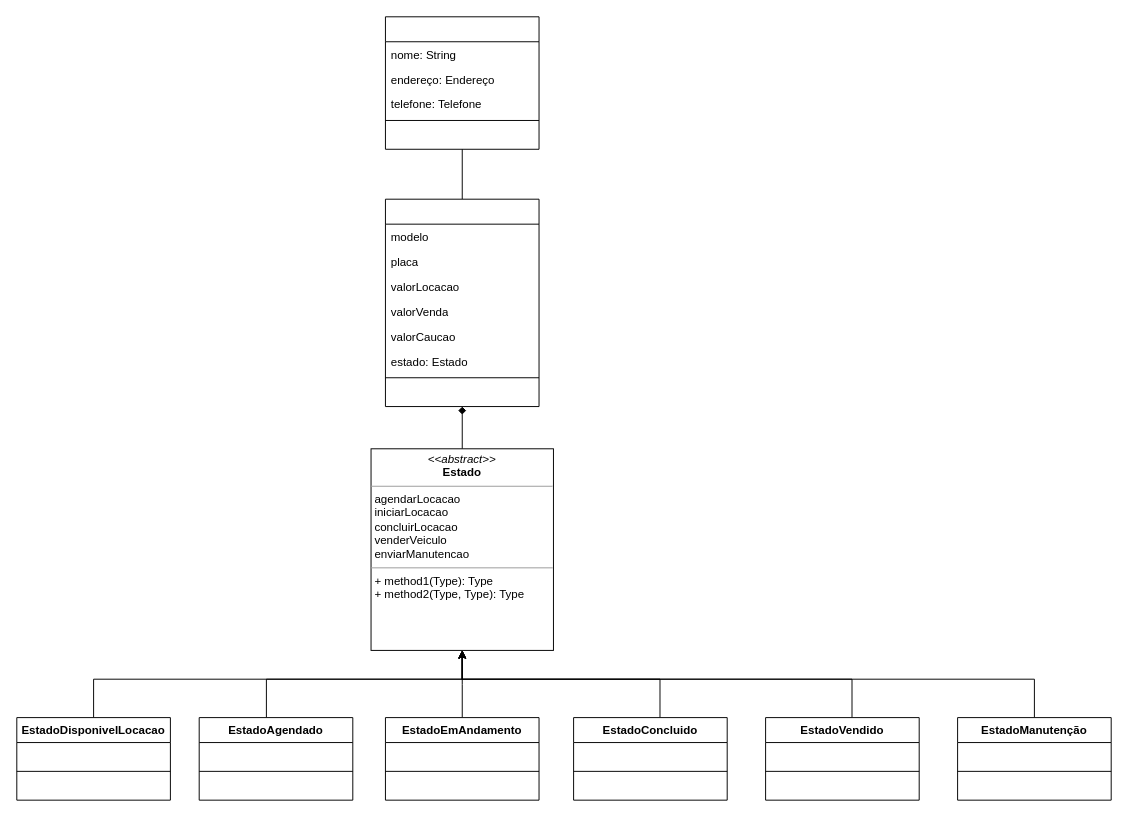
Some shapes in this 1128 by 820 pixel diagram are drawn without their labels. Each missing label, with the box of its shape:
Cliente: (384, 16, 539, 149)
Veiculo: (384, 198, 539, 407)
